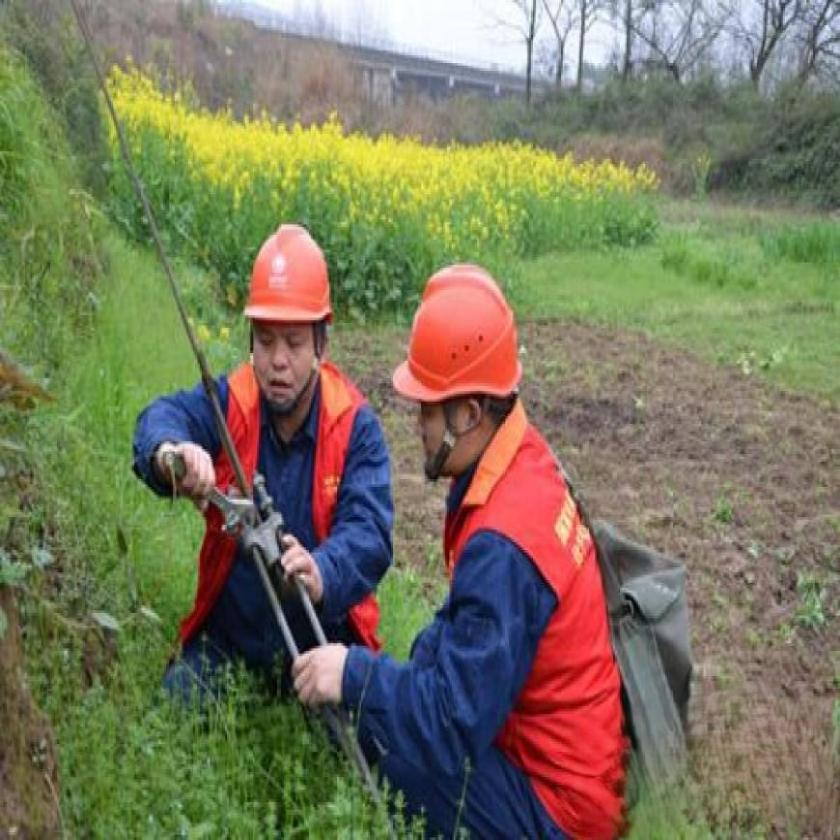Con_casco: (390, 264, 531, 492), (229, 209, 339, 441)
